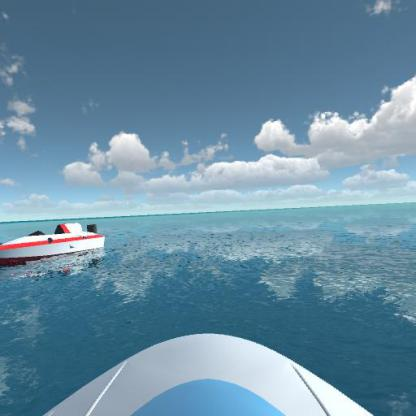usv3: (1, 216, 109, 266)
